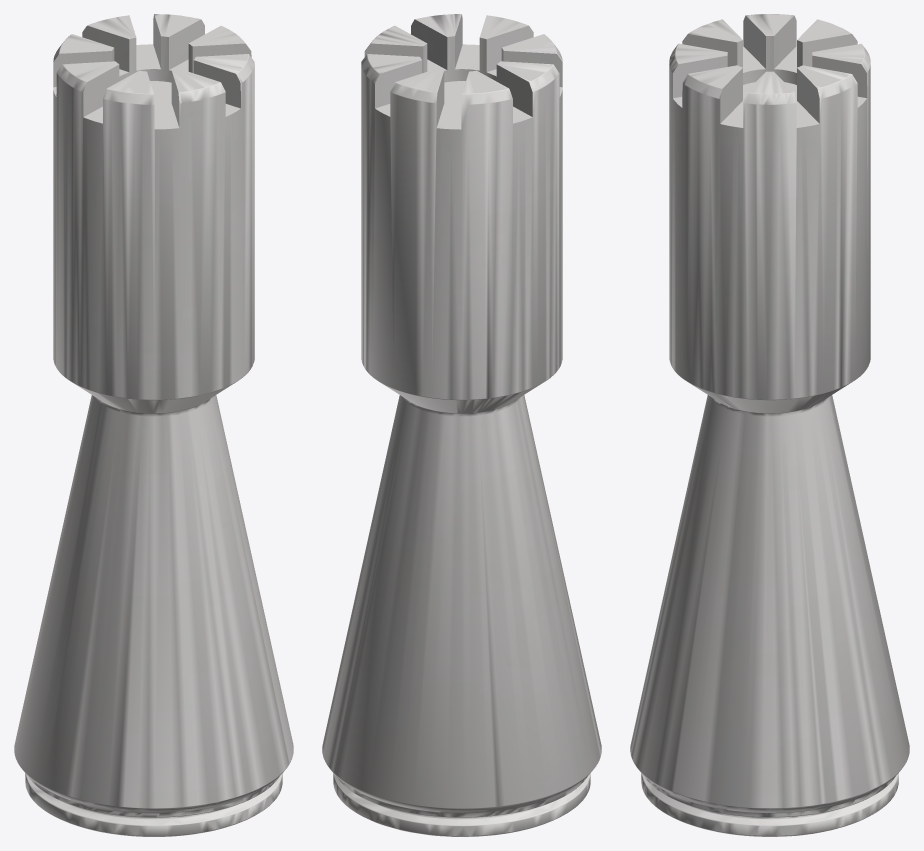
The model's file is king-white.glb.
3 renders of one model, left to right at view 1: azimuth 30°, elevation 25°; view 2: azimuth 150°, elevation 25°; view 3: azimuth 270°, elevation 25°, orthographic.
Parts seen in each view (by area): view 1: 01_kral_bila; view 2: 01_kral_bila; view 3: 01_kral_bila.
Part boxes in pixels (x1,y1,x2,y2): 01_kral_bila: (14,14,293,836); 01_kral_bila: (322,14,601,836); 01_kral_bila: (630,14,909,836).
Size of the model in its own units: 0.5729 by 1.65 by 0.5729.
Materials: 1 (1 with a texture image).
